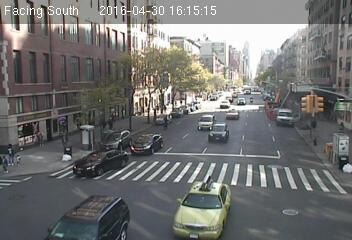neg: (144, 58, 169, 91), (165, 195, 187, 225), (280, 103, 302, 132), (206, 189, 227, 217), (183, 174, 202, 200), (318, 137, 335, 161), (332, 137, 348, 159), (304, 131, 319, 151), (266, 99, 280, 117)
pos: (1, 140, 21, 168), (30, 126, 50, 152), (55, 125, 74, 150), (11, 151, 25, 171), (104, 114, 118, 132), (98, 118, 110, 134)
